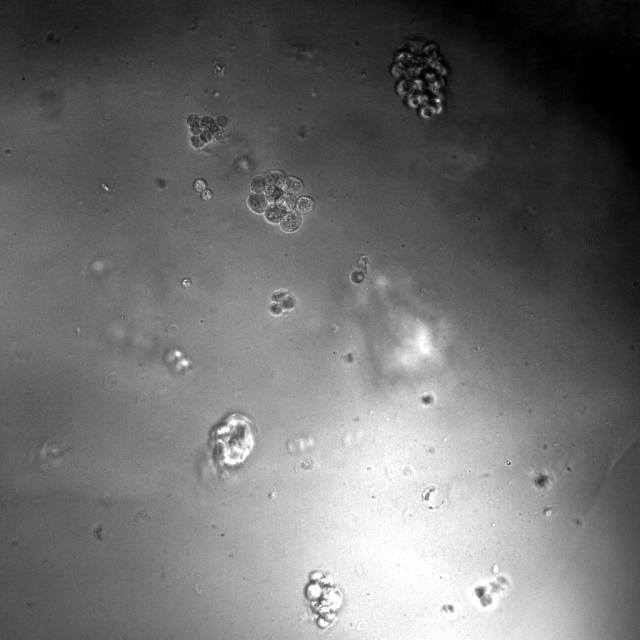organoid: (389, 34, 448, 120), (246, 169, 315, 232), (208, 413, 255, 472), (304, 570, 343, 629), (186, 113, 230, 149), (269, 291, 294, 314), (350, 255, 368, 284), (193, 178, 212, 200)
